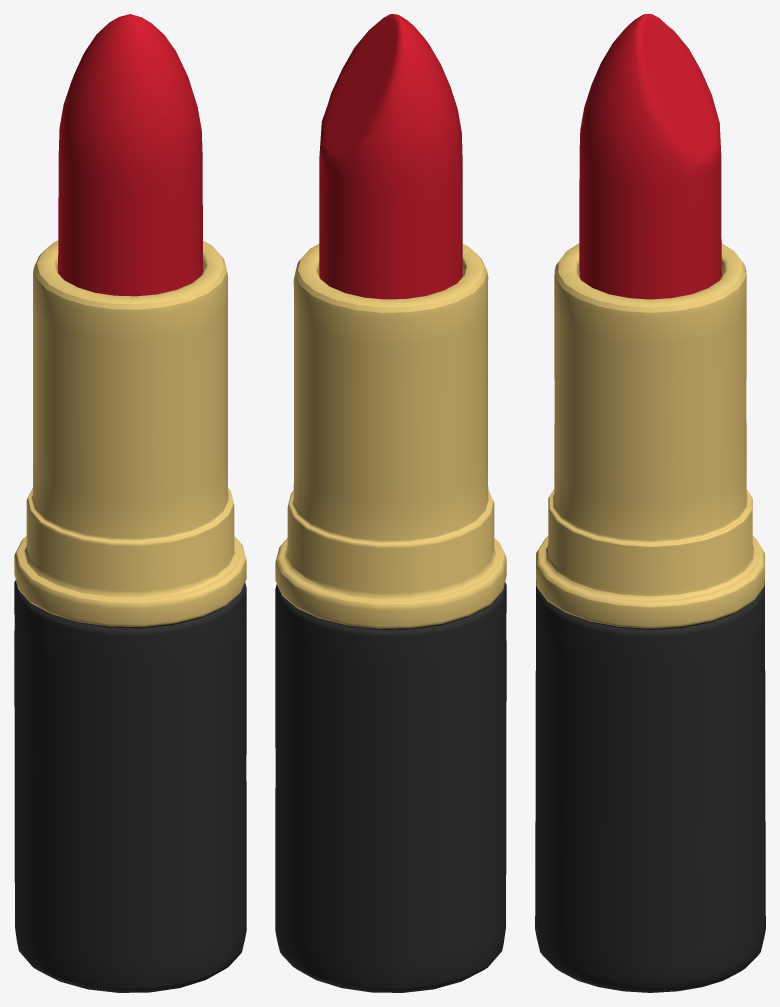
Rendered from lipstick 1.fbx.
3 views of the same model, side by side, from view 1: azimuth 30°, elevation 25°; view 2: azimuth 150°, elevation 25°; view 3: azimuth 270°, elevation 25° (orthographic).
Visible parts, largest first — view 1: Lipstick Cap1; view 2: Lipstick Cap1; view 3: Lipstick Cap1.
Boxes of the visible parts, box(x1,y1,x2,y2) form: Lipstick Cap1: box(14, 14, 246, 992); Lipstick Cap1: box(275, 14, 506, 992); Lipstick Cap1: box(535, 14, 765, 992).
Size of the model in its own units: 105 by 466 by 104.
